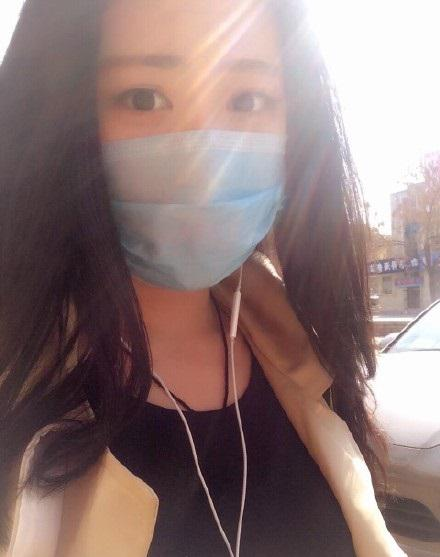OK: (84, 49, 286, 274)
